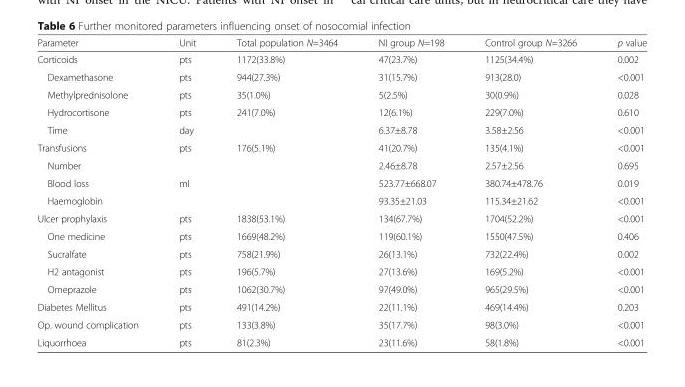table: (36, 36, 646, 347)
table column: (215, 36, 357, 347), (463, 36, 596, 347), (36, 36, 158, 347), (357, 36, 463, 347), (158, 36, 215, 347), (596, 36, 646, 347)
table column header: (36, 36, 646, 50)
table row: (36, 67, 646, 85), (36, 85, 646, 103), (36, 120, 646, 138), (36, 138, 646, 156), (36, 173, 646, 191), (36, 191, 646, 209), (36, 226, 646, 244), (36, 244, 646, 262), (36, 262, 646, 280), (36, 297, 646, 315), (36, 315, 646, 333), (36, 50, 646, 67), (36, 103, 646, 120), (36, 156, 646, 173), (36, 209, 646, 226), (36, 280, 646, 297), (36, 36, 646, 50), (36, 333, 646, 347)
